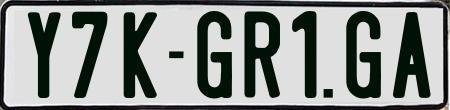1: (291, 9, 320, 102)
7: (70, 9, 105, 101)
A: (390, 9, 429, 100)
G: (195, 11, 234, 104), (344, 8, 381, 102)
K: (123, 9, 157, 95)
R: (243, 11, 285, 104)
Y: (25, 10, 63, 99)
